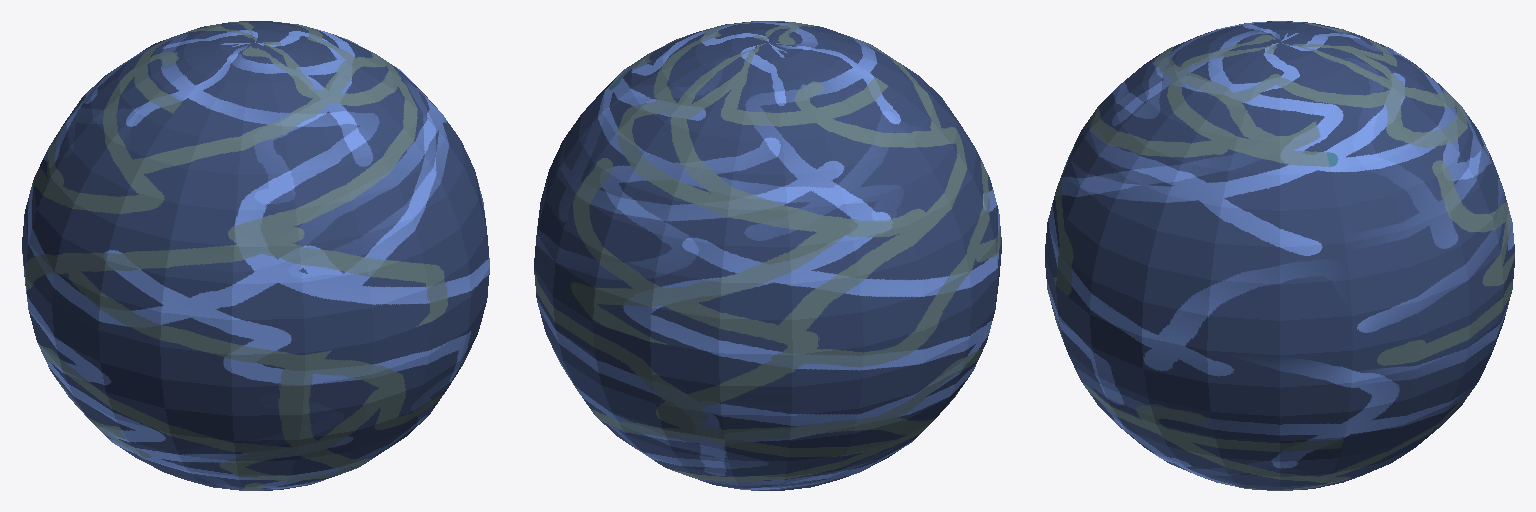
3 views of the same model, side by side, from view 1: azimuth 30°, elevation 25°; view 2: azimuth 150°, elevation 25°; view 3: azimuth 270°, elevation 25° (orthographic).
Visible parts, largest first — view 1: projectile_projectile_pSphere1; view 2: projectile_projectile_pSphere1; view 3: projectile_projectile_pSphere1.
Boxes of the visible parts, <box> form: projectile_projectile_pSphere1: <box>22,21,489,490</box>; projectile_projectile_pSphere1: <box>534,21,1001,490</box>; projectile_projectile_pSphere1: <box>1045,21,1514,490</box>.
Bounding box in the file's own units: 1.01 × 1.01 × 1.01.
Materials: 1 (1 with a texture image).